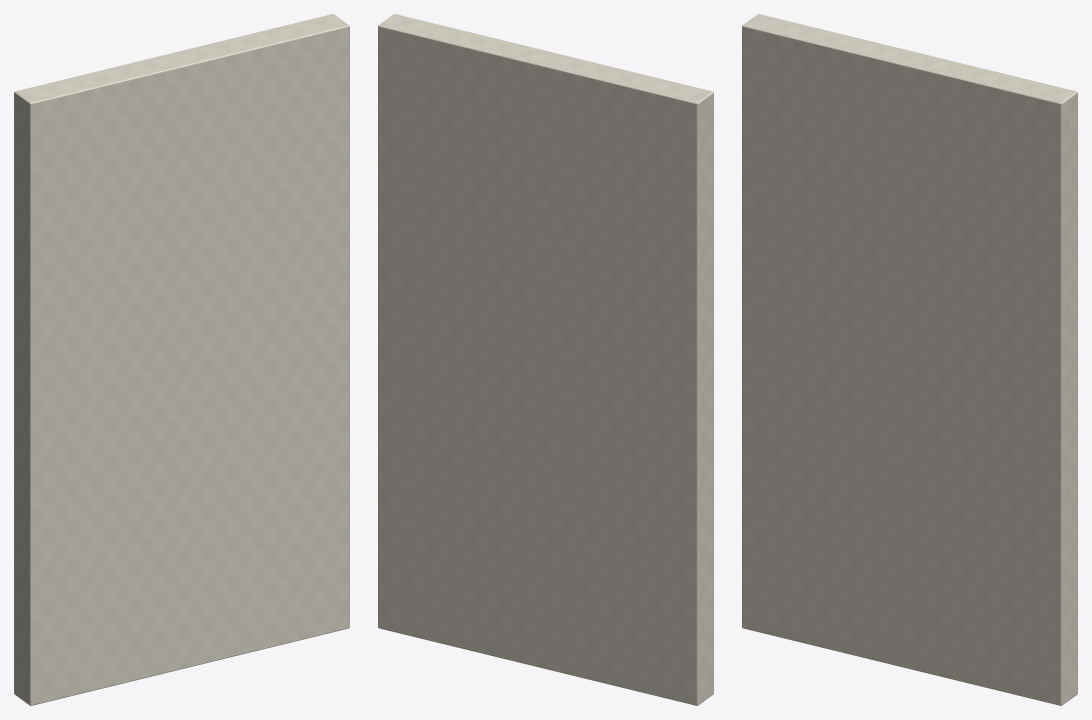
Rendered from plaster-panel-v1.glb.
3 renders of one model, left to right at view 1: azimuth 30°, elevation 25°; view 2: azimuth 150°, elevation 25°; view 3: azimuth 330°, elevation 25°, orthographic.
Parts seen in each view (by area): view 1: Warm plaster panel; view 2: Warm plaster panel; view 3: Warm plaster panel.
Boxes of the visible parts, <box> form: Warm plaster panel: <box>14,14,349,705</box>; Warm plaster panel: <box>378,14,713,705</box>; Warm plaster panel: <box>742,14,1077,705</box>.
Bounding box in the file's own units: 2 × 3.6 × 0.18.
Materials: 1 (1 with a texture image).
